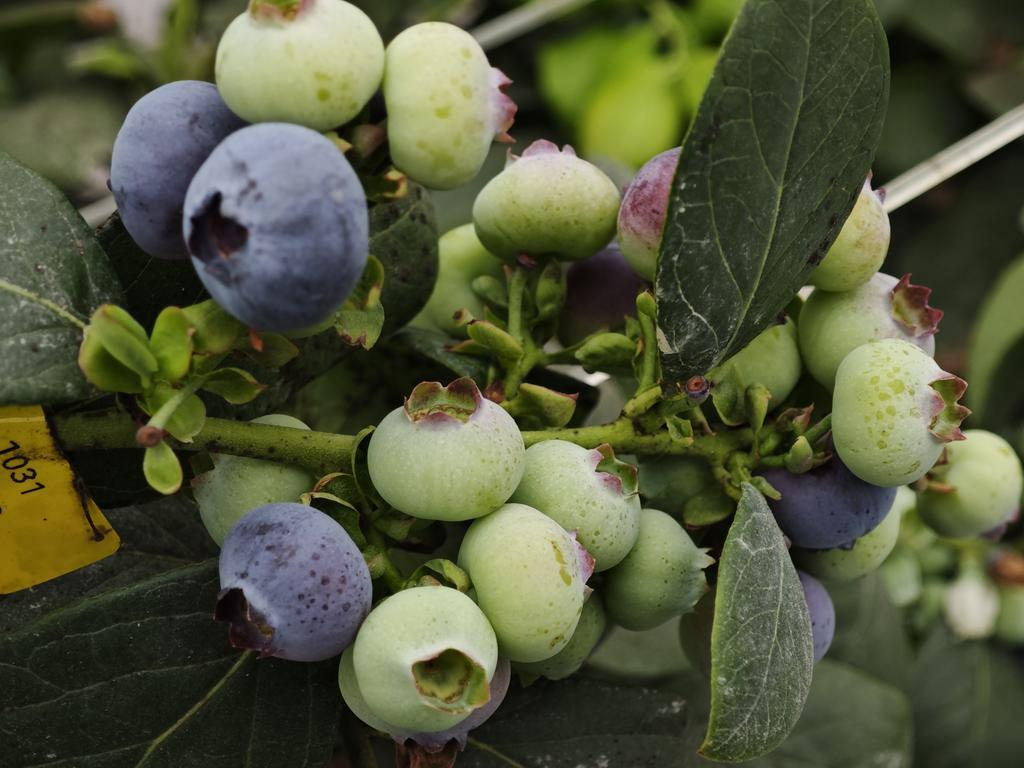RipeBlueBerry: (184, 121, 370, 339), (218, 499, 373, 660)
UnripeBlueBerry: (386, 18, 513, 186), (370, 377, 523, 514), (216, 0, 382, 123), (836, 340, 971, 486), (470, 516, 592, 662), (474, 143, 619, 259)
